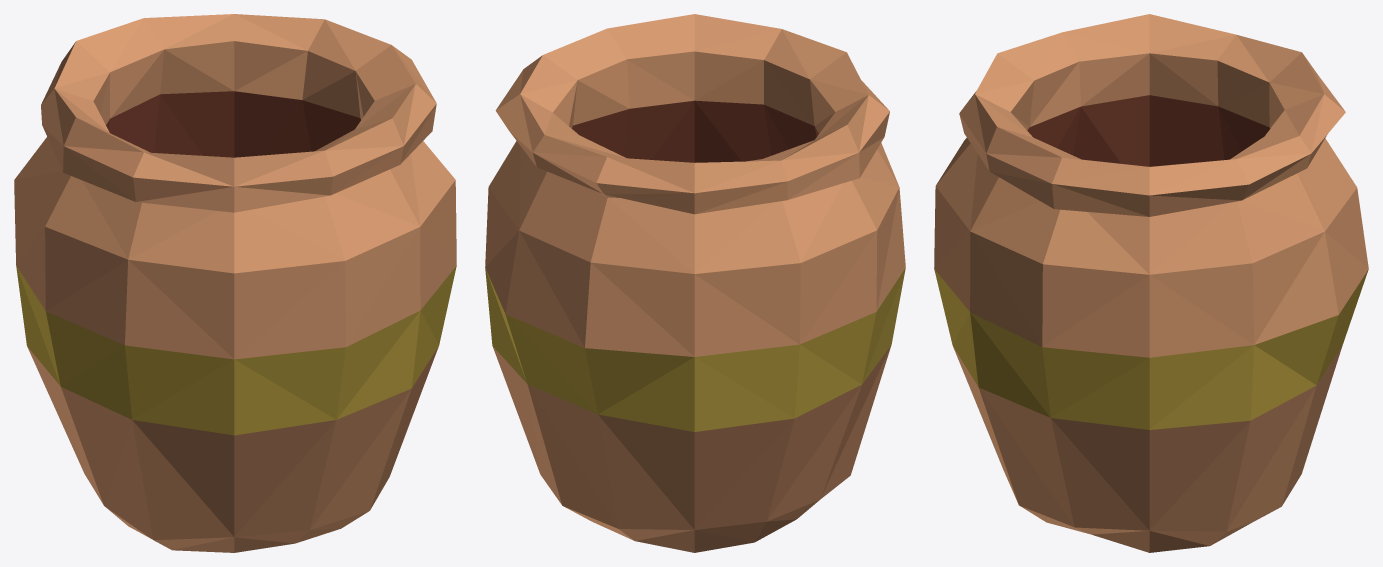
The model's file is Jarron-1.FBX.
3 renders of one model, left to right at view 1: azimuth 30°, elevation 25°; view 2: azimuth 150°, elevation 25°; view 3: azimuth 270°, elevation 25°, orthographic. The views are drawn at different scales.
Bounding box in the file's own units: 58.62 × 63.48 × 60.4.
1 material, 1 textured.
